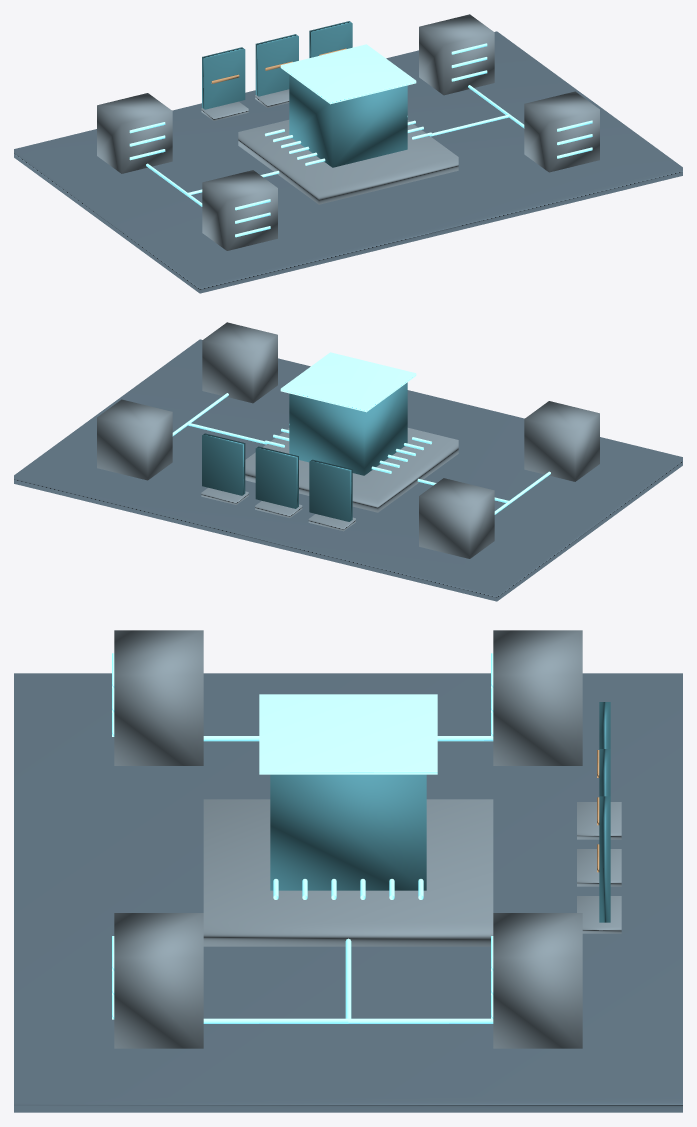
File: cyber.glb
3 renders of one model, top to bottom at view 1: azimuth 30°, elevation 25°; view 2: azimuth 150°, elevation 25°; view 3: azimuth 270°, elevation 25°, orthographic. The views are drawn at different scales.
Parts seen in each view (by area): view 1: Research_platform_0, Compute_base_1, Compute_core_2, Network_node_34, Network_node_22, Network_node_28, Network_node_16, Processor_top_3, Research_screen_40, Research_screen_43, Research_screen_46, Screen_base_41; view 2: Research_platform_0, Compute_core_2, Network_node_28, Network_node_16, Network_node_34, Network_node_22, Compute_base_1, Processor_top_3, Research_screen_46, Research_screen_40, Research_screen_43, Screen_base_41 (+2 smaller); view 3: Research_platform_0, Compute_base_1, Compute_core_2, Processor_top_3, Network_node_16, Network_node_22, Network_node_28, Network_node_34, Research_screen_46, Screen_base_47, Screen_base_41, Screen_base_44 (+2 smaller).
Part boxes in pixels (left/top/right/bottom): Research_platform_0: left=14, top=31, right=682, bottom=293; Compute_base_1: left=238, top=120, right=458, bottom=204; Compute_core_2: left=289, top=74, right=407, bottom=167; Network_node_34: left=524, top=91, right=599, bottom=172; Network_node_22: left=202, top=170, right=277, bottom=250; Network_node_28: left=419, top=14, right=494, bottom=95; Network_node_16: left=97, top=93, right=172, bottom=173; Processor_top_3: left=280, top=44, right=416, bottom=104; Research_screen_40: left=202, top=47, right=245, bottom=109; Research_screen_43: left=255, top=34, right=298, bottom=96; Research_screen_46: left=309, top=21, right=352, bottom=57; Screen_base_41: left=201, top=101, right=248, bottom=120; Research_platform_0: left=14, top=339, right=682, bottom=601; Compute_core_2: left=289, top=382, right=407, bottom=475; Network_node_28: left=97, top=399, right=172, bottom=480; Network_node_16: left=419, top=478, right=494, bottom=558; Network_node_34: left=202, top=322, right=277, bottom=403; Network_node_22: left=524, top=401, right=599, bottom=481; Compute_base_1: left=245, top=428, right=458, bottom=512; Processor_top_3: left=280, top=352, right=416, bottom=412; Research_screen_46: left=202, top=433, right=245, bottom=495; Research_screen_40: left=309, top=459, right=352, bottom=521; Research_screen_43: left=255, top=446, right=298, bottom=508; Screen_base_41: left=308, top=514, right=355, bottom=531; Research_platform_0: left=14, top=673, right=682, bottom=1112; Compute_base_1: left=203, top=799, right=493, bottom=946; Compute_core_2: left=270, top=774, right=426, bottom=890; Processor_top_3: left=259, top=694, right=437, bottom=774; Network_node_16: left=493, top=630, right=582, bottom=765; Network_node_22: left=114, top=630, right=203, bottom=765; Network_node_28: left=493, top=913, right=582, bottom=1048; Network_node_34: left=114, top=913, right=203, bottom=1048; Research_screen_46: left=599, top=796, right=610, bottom=922; Screen_base_47: left=577, top=896, right=621, bottom=933; Screen_base_41: left=577, top=802, right=621, bottom=839; Screen_base_44: left=577, top=849, right=621, bottom=886.
Size of the model in its own units: 9 by 1.67 by 6.
